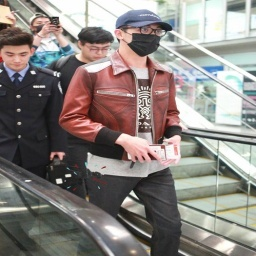correctlyWear: (114, 24, 167, 57), (31, 17, 51, 33)
noWear: (77, 36, 111, 60), (1, 46, 31, 71)
